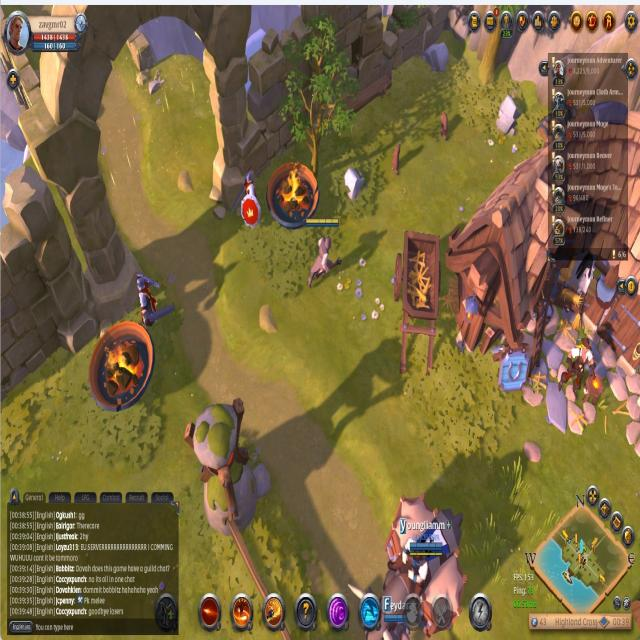stone: (494, 92, 521, 138), (422, 36, 451, 77), (342, 162, 367, 205)
